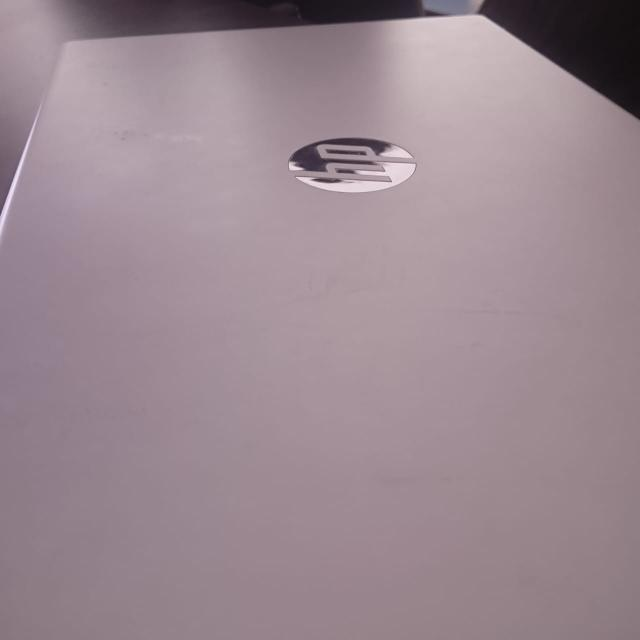laptop: (2, 19, 640, 624)
